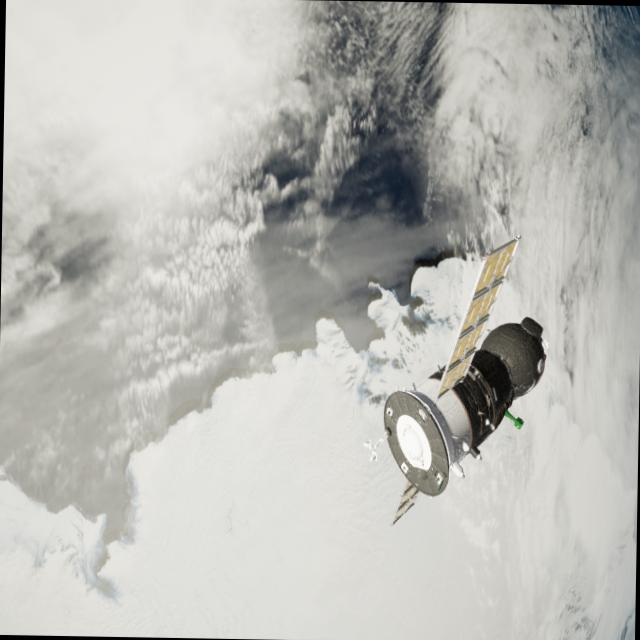Satellites revolving around earth: (367, 229, 551, 528)
